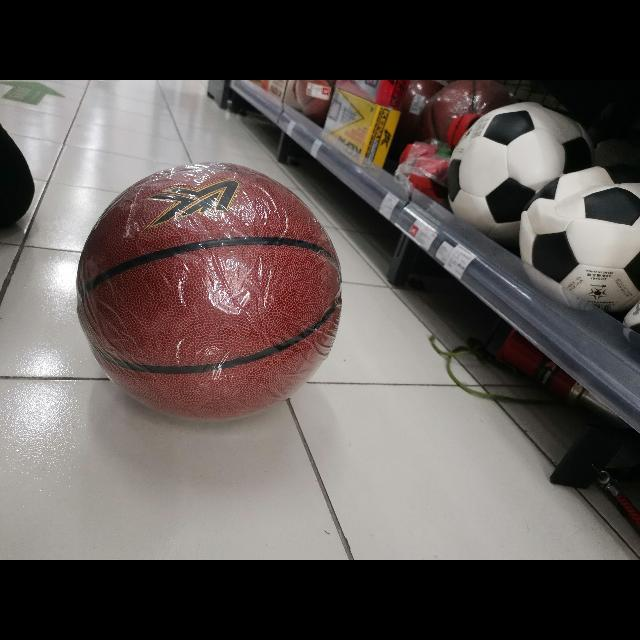basketball: (77, 164, 340, 420)
